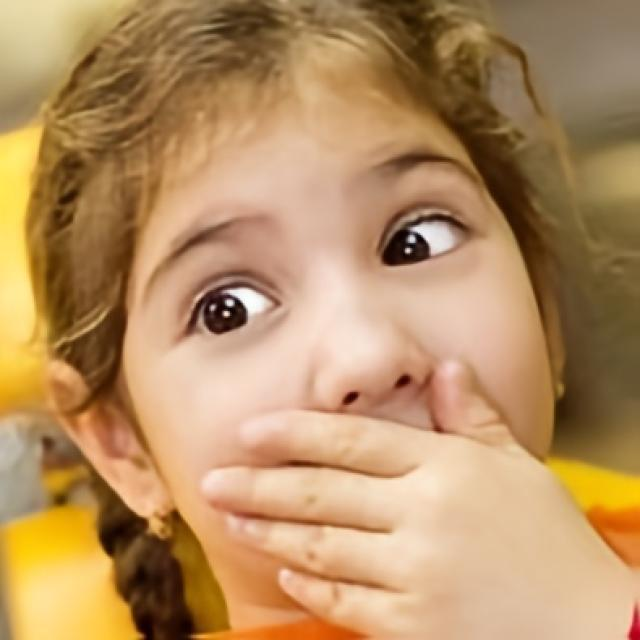surprise: (121, 22, 556, 586)
